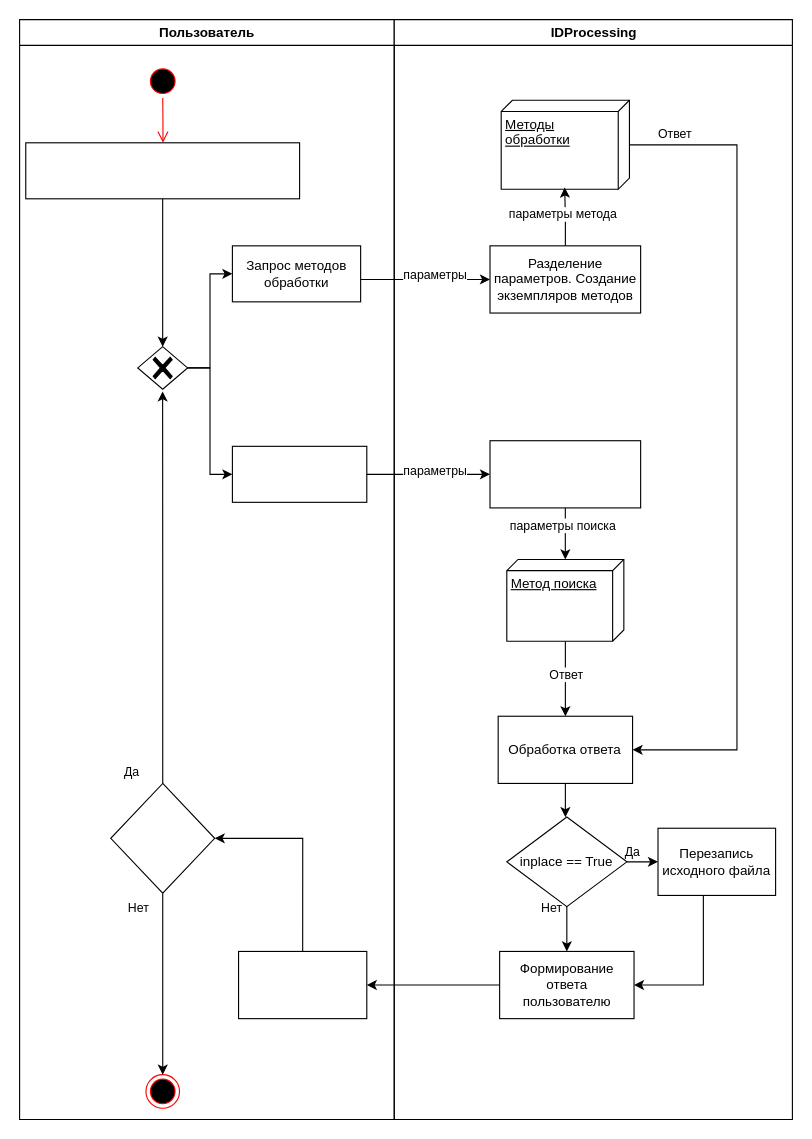
Image size: 812x1139. Some labels were removed from this diagram. Here are the shapes that lost their labels. From the top down, the centre of each, then its label:
point (162, 170): from DPro import IDProcessing
point (299, 473): Запрос поиска ошибок в датасете
point (565, 474): Разделение параметров. Выгрузка данных в модель
point (162, 837): Продолжить обработку?
point (302, 984): Получение ответа
